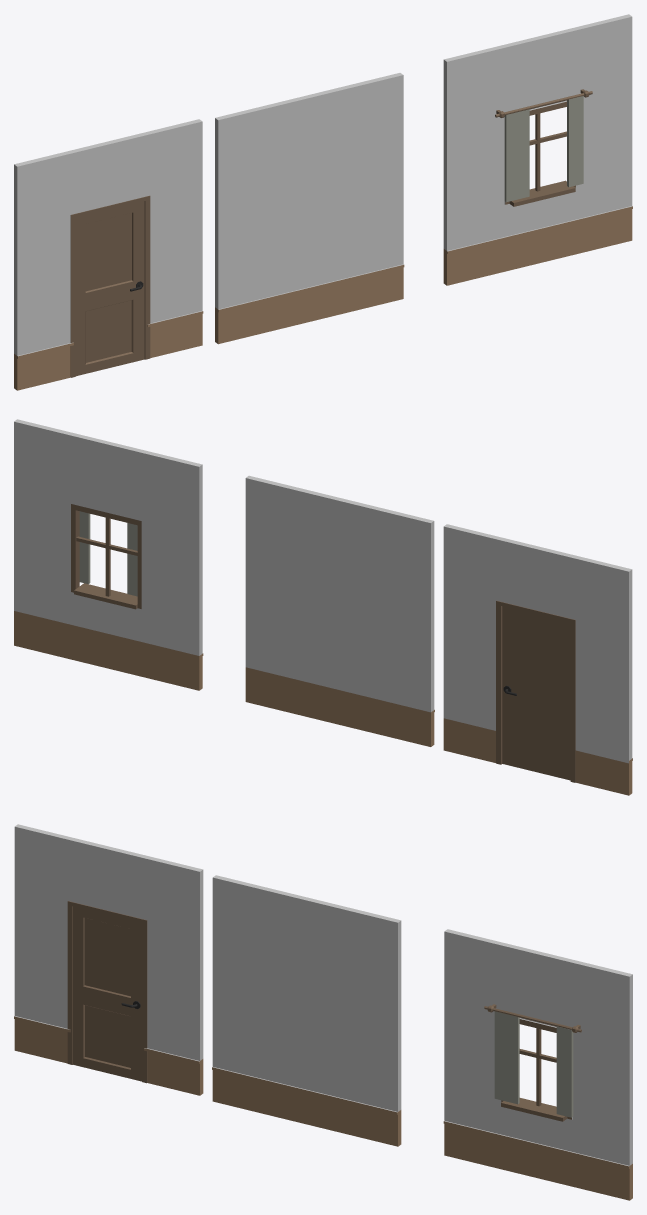
File: Walls_new_Pivots_01.fbx
The picture shows the model from 3 angles, top to bottom: view 1: azimuth 30°, elevation 25°; view 2: azimuth 150°, elevation 25°; view 3: azimuth 330°, elevation 25°; orthographic projection.
Parts seen in each view (by area): view 1: Wall_simple_geo, Wall_Window_geo, Wall_geo, Door_geo, Door_Frame_geo, Curtain_01_geo, Curtain_02_geo, Window_cross_geo; view 2: Wall_simple_geo, Wall_Window_geo, Wall_geo, Door_geo, Door_Frame_geo, Curtain_02_geo, Window_cross_geo, Curtain_01_geo; view 3: Wall_simple_geo, Wall_Window_geo, Wall_geo, Door_geo, Curtain_01_geo, Door_Frame_geo, Curtain_02_geo, Window_cross_geo.
Part boxes in pixels (left/top/right/bottom): Wall_simple_geo: left=215, top=73, right=404, bottom=344; Wall_Window_geo: left=443, top=14, right=632, bottom=285; Wall_geo: left=14, top=119, right=203, bottom=390; Door_geo: left=75, top=201, right=144, bottom=376; Door_Frame_geo: left=70, top=195, right=150, bottom=377; Curtain_01_geo: left=504, top=109, right=529, bottom=202; Curtain_02_geo: left=567, top=96, right=583, bottom=187; Window_cross_geo: left=529, top=113, right=566, bottom=191; Wall_simple_geo: left=245, top=475, right=434, bottom=746; Wall_Window_geo: left=14, top=419, right=203, bottom=690; Wall_geo: left=443, top=524, right=632, bottom=795; Door_geo: left=502, top=606, right=570, bottom=780; Door_Frame_geo: left=496, top=600, right=575, bottom=782; Curtain_02_geo: left=79, top=511, right=90, bottom=584; Window_cross_geo: left=76, top=517, right=137, bottom=596; Curtain_01_geo: left=127, top=523, right=137, bottom=596; Wall_simple_geo: left=212, top=875, right=401, bottom=1146; Wall_Window_geo: left=443, top=929, right=632, bottom=1200; Wall_geo: left=14, top=824, right=203, bottom=1095; Door_geo: left=73, top=906, right=141, bottom=1081; Curtain_01_geo: left=494, top=1011, right=519, bottom=1104; Door_Frame_geo: left=67, top=901, right=147, bottom=1083; Curtain_02_geo: left=556, top=1026, right=573, bottom=1117; Window_cross_geo: left=519, top=1028, right=556, bottom=1106.
Size of the model in its own units: 8.3 by 2.9 by 0.2676.
